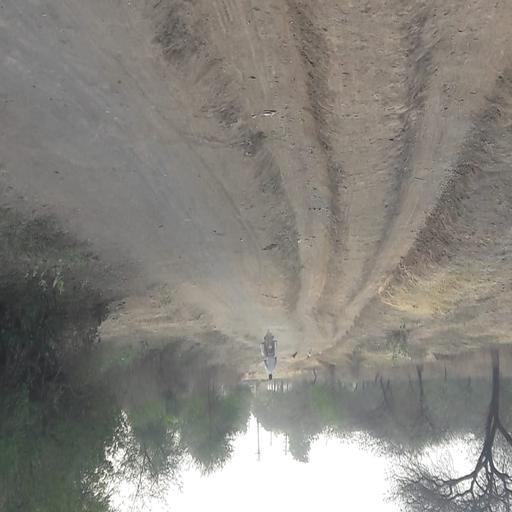vehicle_track: (0, 0, 275, 329), (338, 0, 512, 337), (171, 0, 341, 314)
